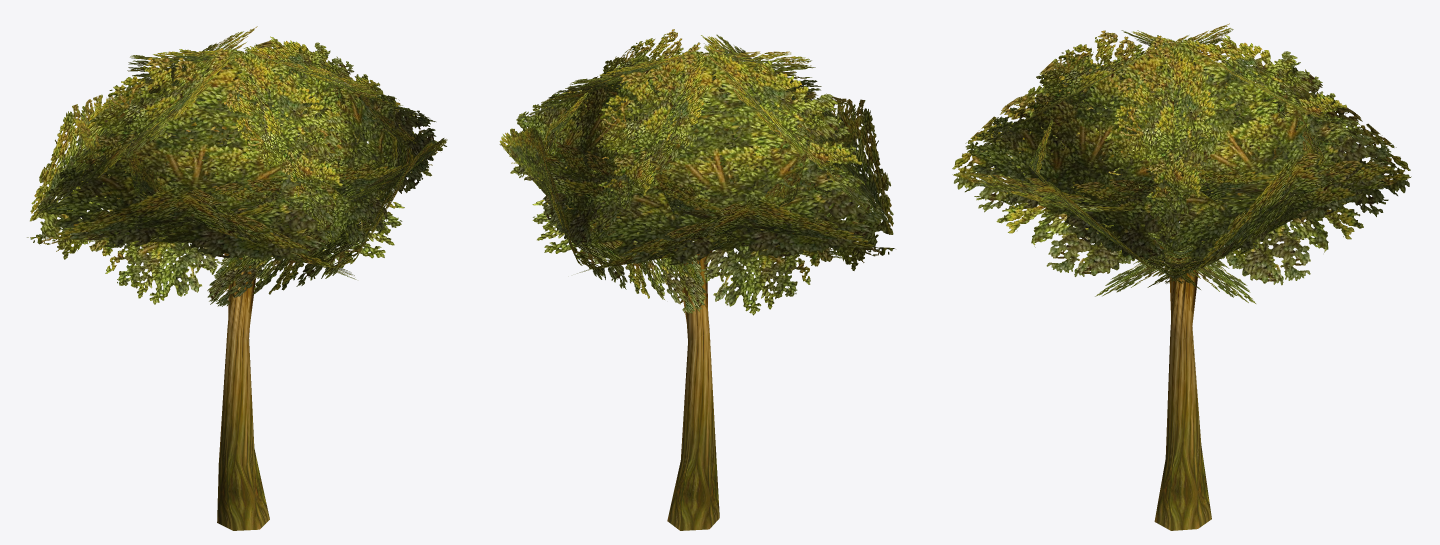
File: tree-canopyless-01.glb
3 renders of one model, left to right at view 1: azimuth 30°, elevation 25°; view 2: azimuth 150°, elevation 25°; view 3: azimuth 270°, elevation 25°, orthographic.
Visible parts, largest first — view 1: tree-canopyless-01_Geoset1, tree-canopyless-01_Geoset0; view 2: tree-canopyless-01_Geoset1, tree-canopyless-01_Geoset0; view 3: tree-canopyless-01_Geoset1, tree-canopyless-01_Geoset0.
Part boxes in pixels (<box>): tree-canopyless-01_Geoset1: <box>27,26,447,306</box>; tree-canopyless-01_Geoset0: <box>182,121,297,530</box>; tree-canopyless-01_Geoset1: <box>499,29,894,315</box>; tree-canopyless-01_Geoset0: <box>653,151,748,530</box>; tree-canopyless-01_Geoset1: <box>952,23,1411,303</box>; tree-canopyless-01_Geoset0: <box>1124,109,1228,530</box>.
Size of the model in its own units: 79 by 82.55 by 76.46.
2 materials, 2 textured.
